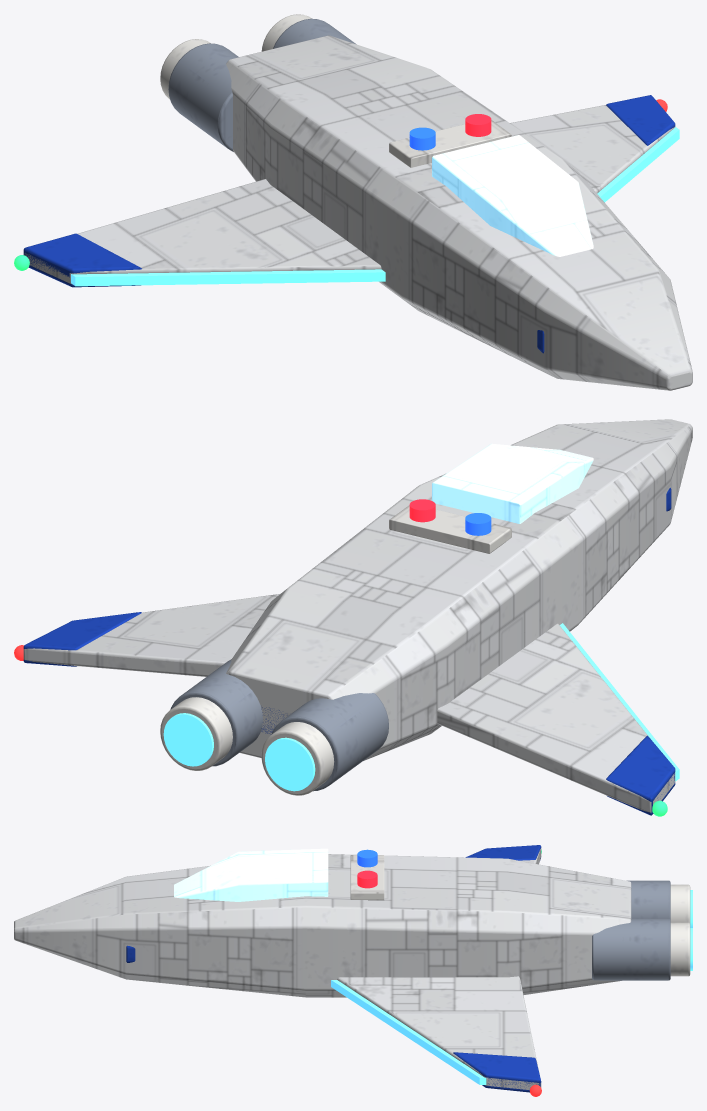
File: police_cruiser.glb
3 views of the same model, one above another, from view 1: azimuth 30°, elevation 25°; view 2: azimuth 150°, elevation 25°; view 3: azimuth 270°, elevation 25° (orthographic). The views are drawn at different scales.
Visible parts, largest first — view 1: Hull, WingR, Canopy, WingL, NacelleR, WingNeonR, WingTrimR, LightBar, WingTrimL, WingNeonL, NacelleL, NozzleR (+1 smaller); view 2: Hull, WingR, WingL, Canopy, NacelleR, NacelleL, LightBar, WingTrimR, WingTrimL, NozzleL, NozzleR, ExhaustL (+2 smaller); view 3: Hull, WingL, Canopy, NacelleL, WingTrimL, WingNeonL, NacelleR, NozzleL, LightBar, WingTrimR, NozzleR.
Part boxes in pixels (x1,y1,x2,y2): Hull: (226,35,692,390); WingR: (24,179,381,283); Canopy: (432,135,593,256); WingL: (510,105,674,193); NacelleR: (168,43,238,151); WingNeonR: (71,269,385,286); WingTrimR: (23,233,141,287); LightBar: (389,120,511,167); WingTrimL: (606,95,675,145); WingNeonL: (597,127,679,202); NacelleL: (273,18,356,48); NozzleR: (160,39,210,99); Hull: (226,419,692,760); WingR: (437,623,675,812); WingL: (23,594,279,676); Canopy: (432,443,593,523); NacelleR: (272,693,388,791); NacelleL: (170,659,262,766); LightBar: (389,505,511,553); WingTrimR: (606,735,675,815); WingTrimL: (23,612,141,666); NozzleL: (160,697,232,770); NozzleR: (261,722,334,795); ExhaustL: (163,713,213,766); Hull: (14,854,631,997); WingL: (337,976,541,1089); Canopy: (174,848,328,901); NacelleL: (592,918,670,980); WingTrimL: (453,1052,541,1092); WingNeonL: (331,980,486,1084); NacelleR: (627,880,670,919); NozzleL: (670,922,690,976); LightBar: (350,855,384,900); WingTrimR: (465,845,541,860); NozzleR: (670,884,690,924).
Size of the model in its own units: 0.515 by 0.1105 by 0.605.
Materials: 10 (5 with a texture image).
